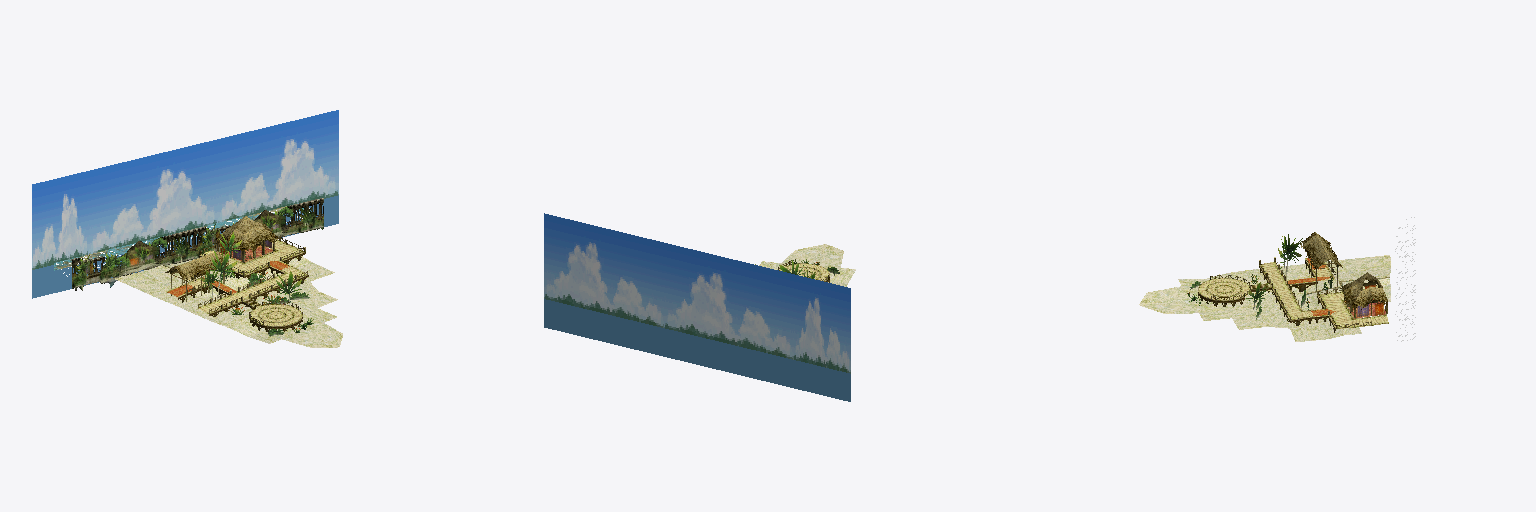
The picture shows the model from 3 angles: view 1: azimuth 30°, elevation 25°; view 2: azimuth 150°, elevation 25°; view 3: azimuth 270°, elevation 25°; orthographic projection.
Parts seen in each view (by area): view 1: SummerPlatform; view 2: SummerPlatform; view 3: SummerPlatform.
Boxes of the visible parts, box(x1,y1,x2,y2) form: SummerPlatform: box(32, 110, 342, 347); SummerPlatform: box(544, 213, 855, 401); SummerPlatform: box(1139, 217, 1415, 341).
Size of the model in its own units: 53.3 by 18.91 by 42.46.
6 materials, 6 textured.